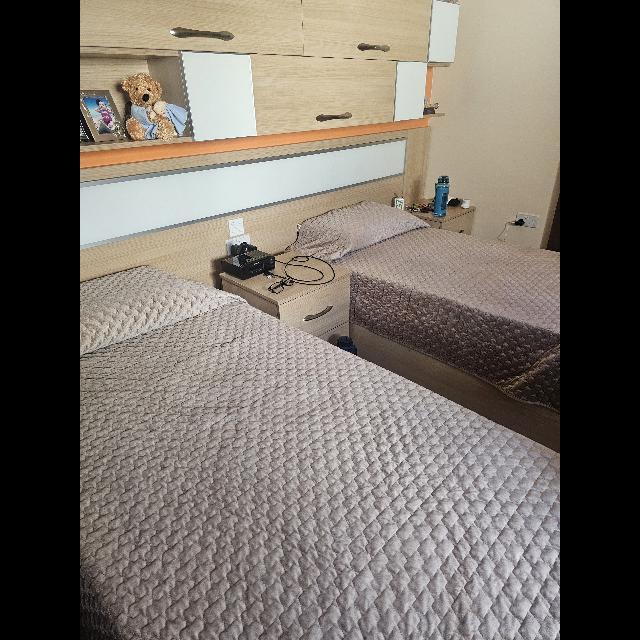glasses: (268, 276, 294, 294)
